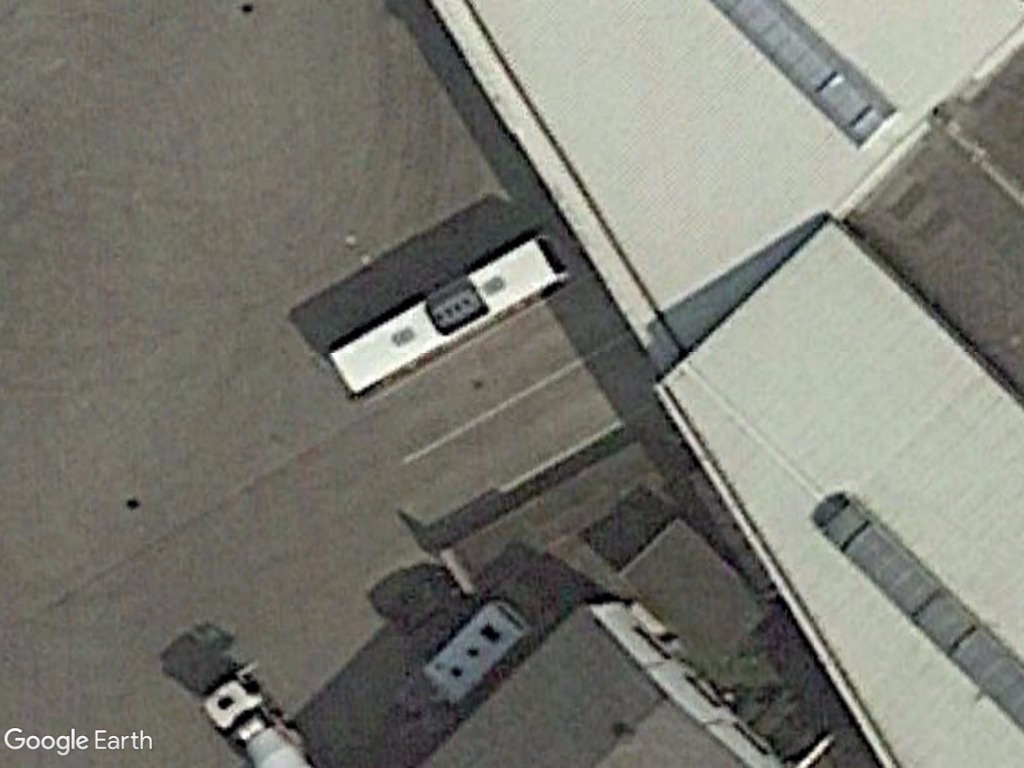bus: (322, 229, 572, 407)
